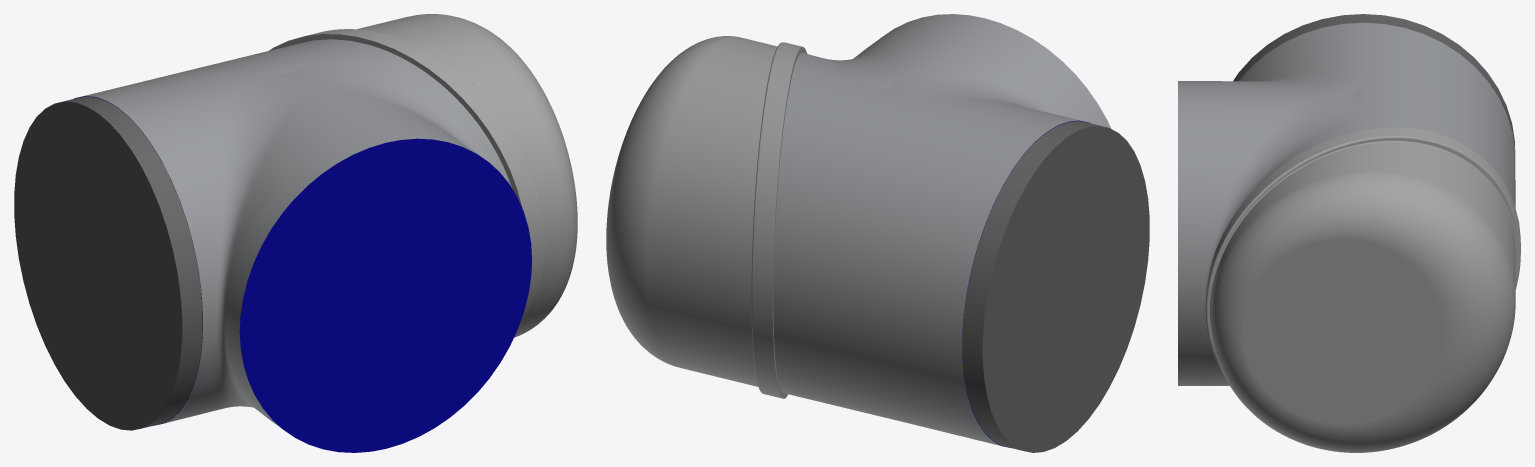
The model's file is Wrist1.fbx.
The picture shows the model from 3 angles, left to right: view 1: azimuth 30°, elevation 25°; view 2: azimuth 150°, elevation 25°; view 3: azimuth 270°, elevation 25°; orthographic projection. The views are drawn at different scales.
Parts seen in each view (by area): view 1: Actor0, Actor1; view 2: Actor0, Actor1; view 3: Actor1, Actor0.
Boxes of the visible parts, x1,y1,x2,y2 form: Actor0: (14, 39, 531, 452); Actor1: (269, 14, 577, 337); Actor0: (773, 14, 1149, 452); Actor1: (606, 36, 807, 398); Actor1: (1205, 127, 1520, 452); Actor0: (1178, 14, 1515, 385).
Size of the model in its own units: 10.47 by 7.75 by 8.43.
